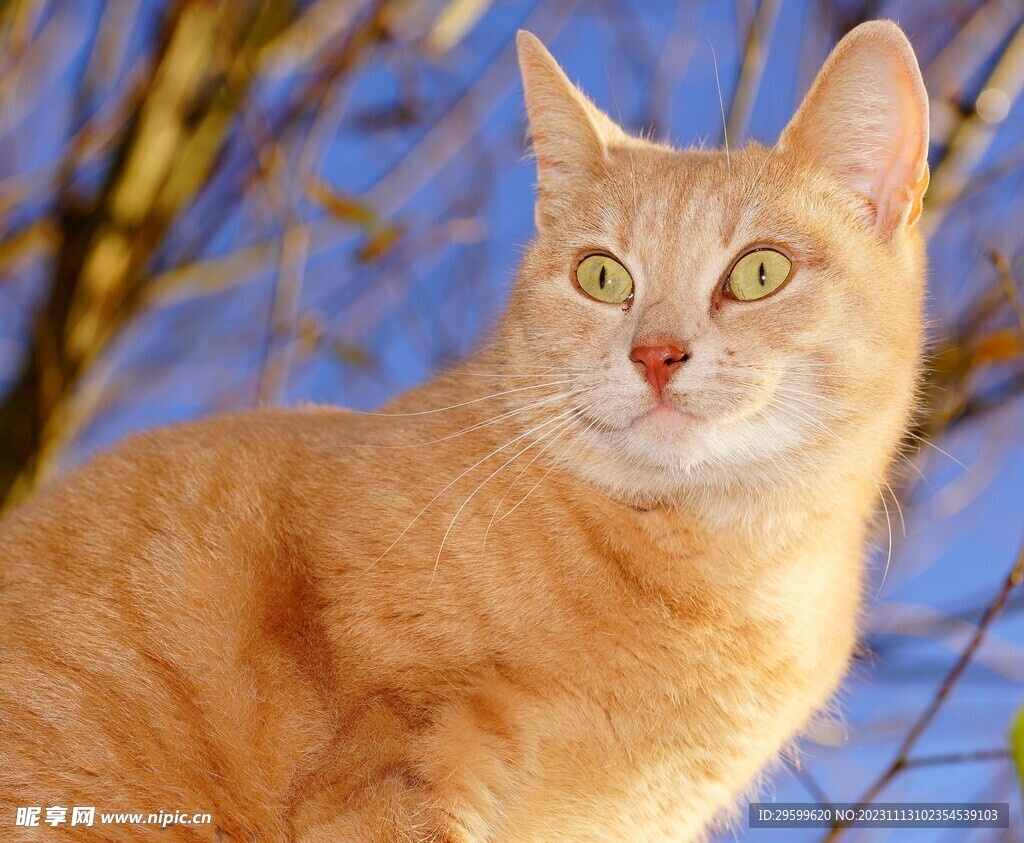橘猫: (503, 22, 926, 524)
